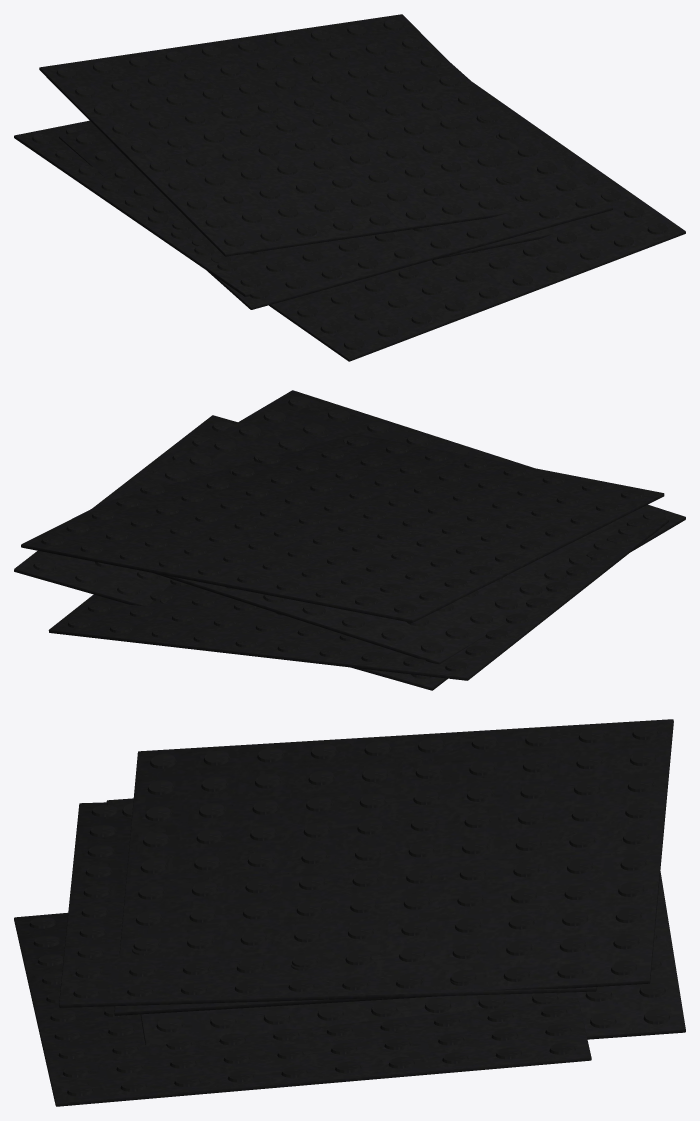
The model's file is PIS-OUT-005_anim.glb.
The picture shows the model from 3 angles, top to bottom: view 1: azimuth 30°, elevation 25°; view 2: azimuth 150°, elevation 25°; view 3: azimuth 270°, elevation 25°; orthographic projection. The views are drawn at different scales.
Visible parts, largest first — view 1: PIS-OUT-005_anim3, PIS-OUT-005_anim0, PIS-OUT-005_anim2, PIS-OUT-005_anim1; view 2: PIS-OUT-005_anim3, PIS-OUT-005_anim2, PIS-OUT-005_anim1, PIS-OUT-005_anim0; view 3: PIS-OUT-005_anim3, PIS-OUT-005_anim0, PIS-OUT-005_anim2, PIS-OUT-005_anim1.
Boxes of the visible parts, x1=… form: PIS-OUT-005_anim3: x1=39, y1=14, x2=523, y2=256; PIS-OUT-005_anim0: x1=269, y1=82, x2=685, y2=361; PIS-OUT-005_anim2: x1=59, y1=63, x2=612, y2=309; PIS-OUT-005_anim1: x1=14, y1=120, x2=557, y2=296; PIS-OUT-005_anim3: x1=21, y1=431, x2=664, y2=622; PIS-OUT-005_anim2: x1=92, y1=390, x2=685, y2=664; PIS-OUT-005_anim1: x1=48, y1=516, x2=668, y2=680; PIS-OUT-005_anim0: x1=14, y1=415, x2=447, y2=690; PIS-OUT-005_anim3: x1=114, y1=719, x2=673, y2=1015; PIS-OUT-005_anim0: x1=14, y1=912, x2=591, y2=1106; PIS-OUT-005_anim2: x1=59, y1=802, x2=596, y2=1007; PIS-OUT-005_anim1: x1=106, y1=798, x2=685, y2=1050.
Bounding box in the file's own units: 0.6313 × 0.1685 × 0.6238.
Materials: 1 (1 with a texture image).
